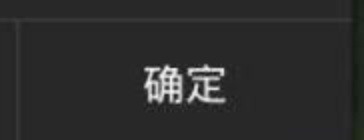Button: (1, 1, 363, 139)
